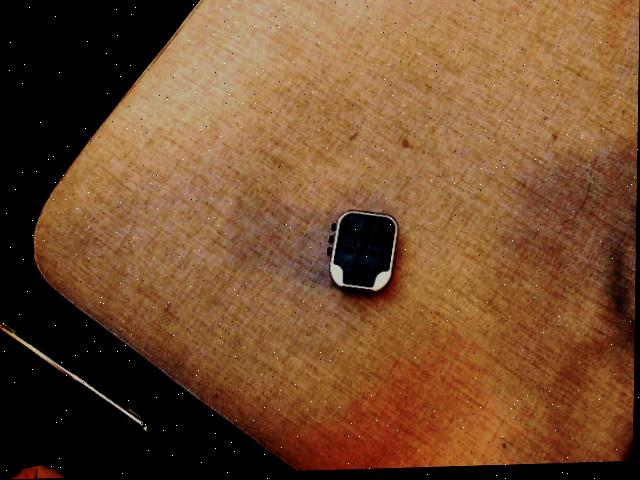adapter: (326, 211, 397, 296)
